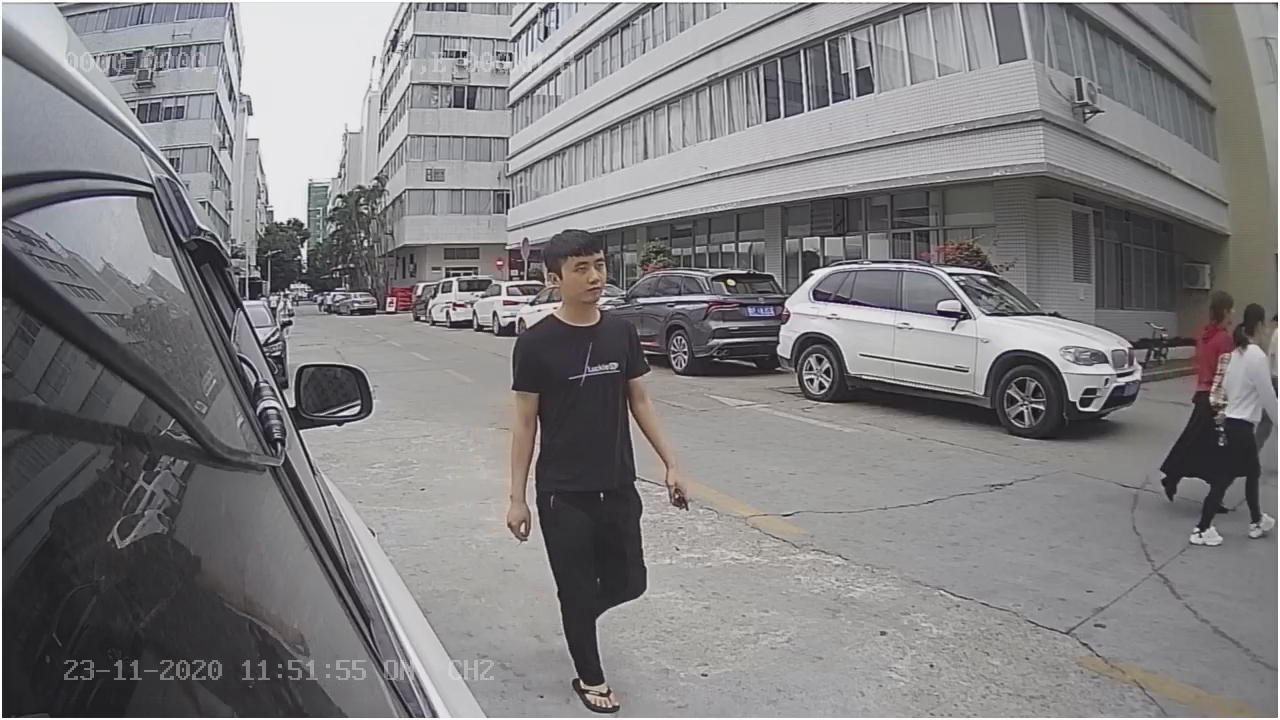person: (500, 222, 707, 709), (1188, 299, 1276, 547)
